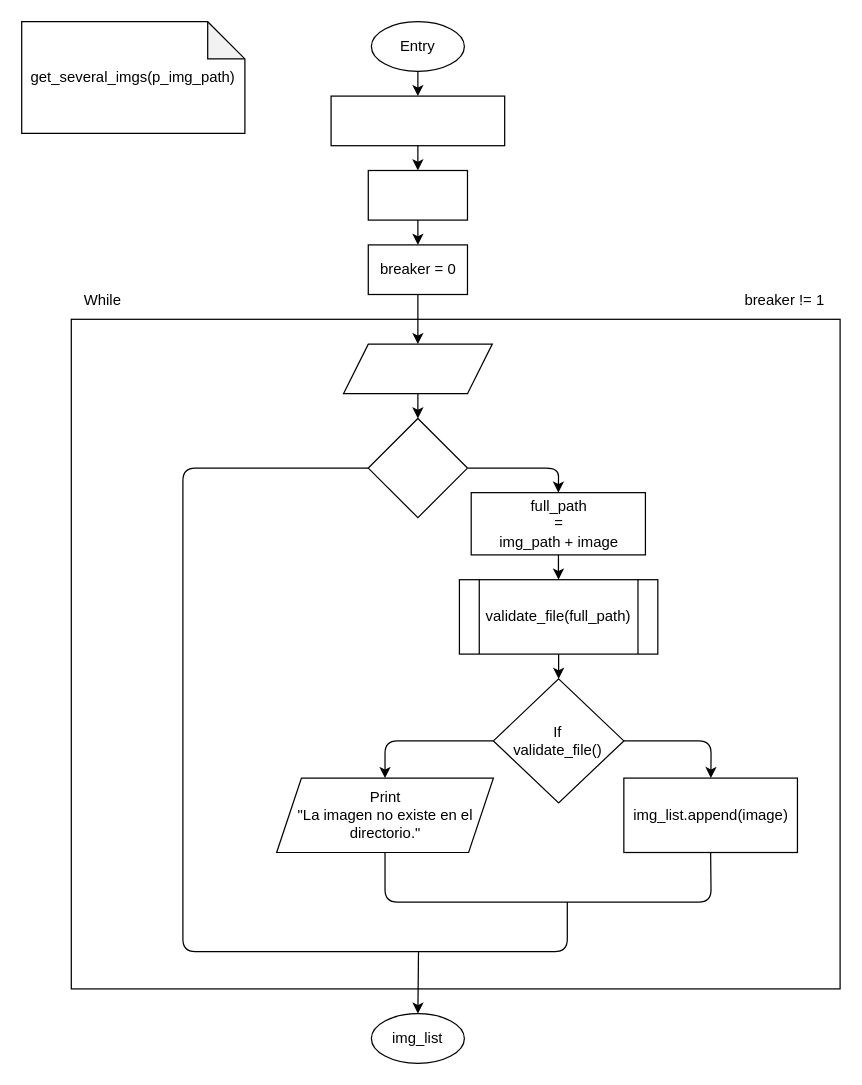
Image size: 862x1085. Some labels were removed from this diagram. Here are the shapes that lost their labels. From the top down, the centre of each, then its label:
At [417,120]: "img_path = p_file_path".
At [417,194]: "img_list = []".
At [417,368]: "Read image".
At [417,467]: "image != 1".
